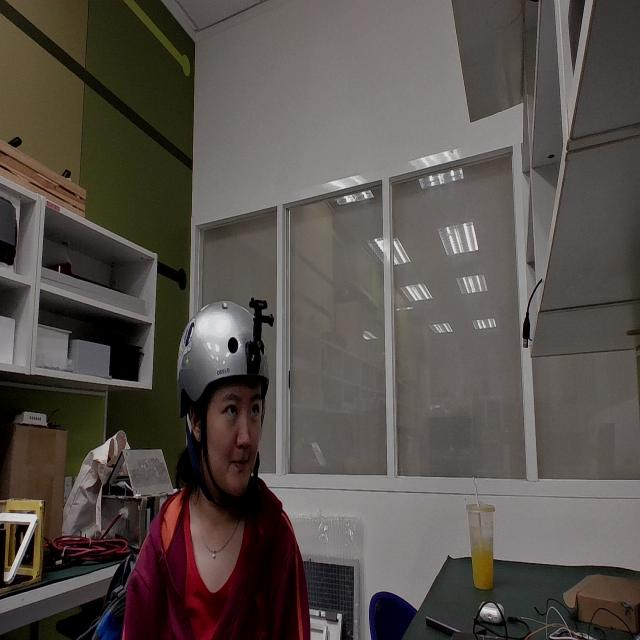With Helmet: (146, 260, 325, 566)
